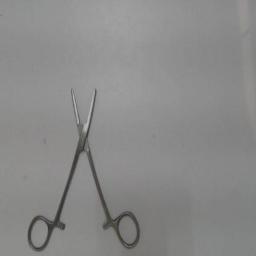Mayo Needle Holder: (24, 80, 142, 254)
